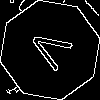V: (25, 25, 82, 77)
